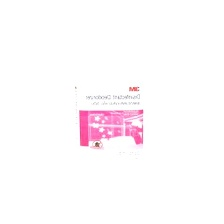cleaning_solution: (70, 26, 148, 183)
